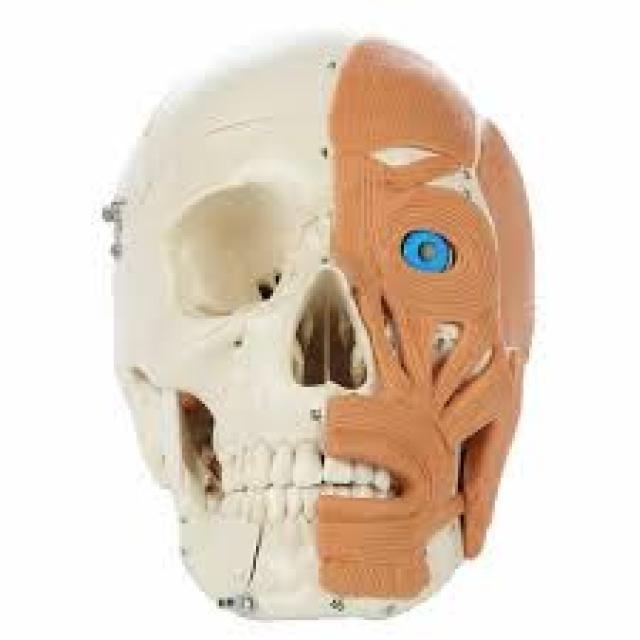skull: (97, 25, 552, 640)
